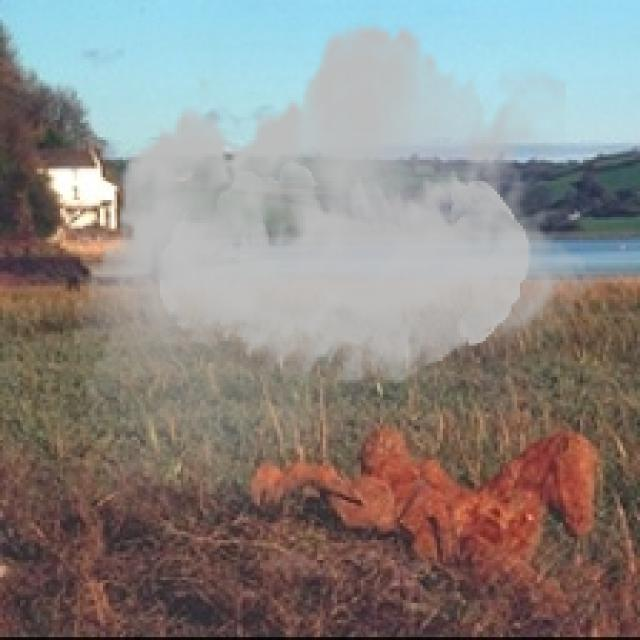smoke: (74, 3, 600, 534)
